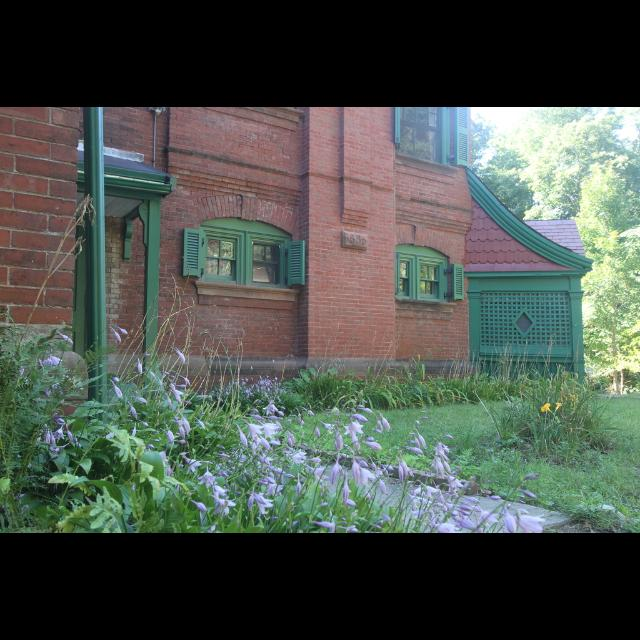Flower: (16, 322, 562, 534), (350, 458, 360, 492), (537, 403, 561, 417), (550, 402, 568, 416)
